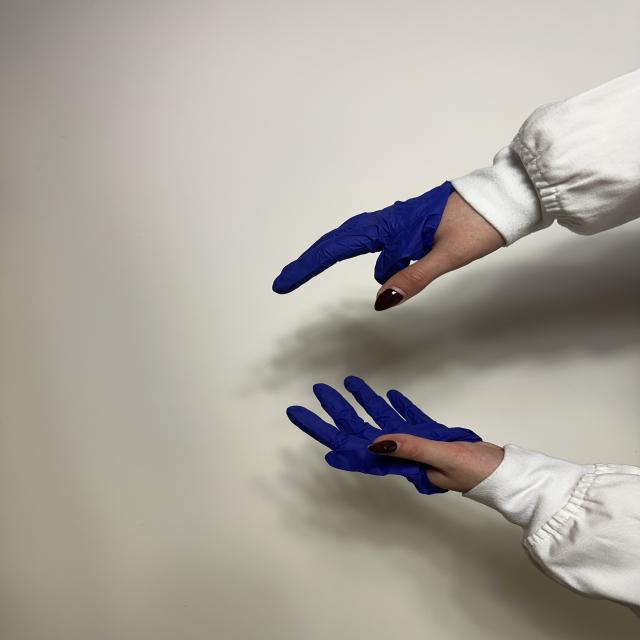glove_partial: (273, 182, 504, 310), (287, 376, 505, 494)
